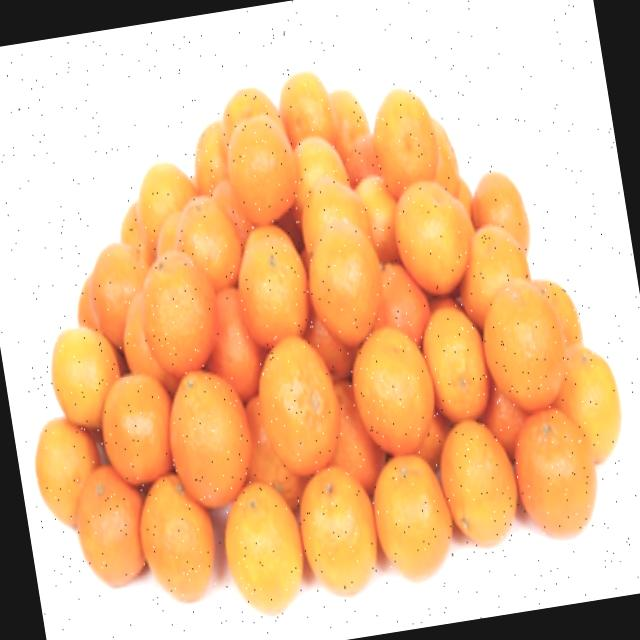pineapple: (242, 330, 356, 484), (497, 410, 609, 559), (474, 279, 582, 422), (342, 320, 446, 468), (126, 472, 228, 620), (160, 364, 262, 510), (212, 484, 317, 622), (362, 445, 461, 590), (432, 422, 529, 562), (286, 476, 388, 606), (302, 224, 395, 350), (66, 466, 152, 600), (224, 230, 320, 348), (92, 368, 183, 491), (410, 303, 498, 430), (219, 114, 303, 231), (384, 170, 470, 282), (554, 337, 630, 461), (40, 322, 123, 432), (139, 255, 215, 358), (456, 216, 528, 322), (366, 86, 438, 190), (370, 247, 440, 353), (31, 418, 98, 522), (86, 230, 146, 340), (176, 202, 247, 290), (326, 82, 386, 184), (136, 151, 200, 231), (473, 170, 534, 250), (279, 74, 337, 148)
